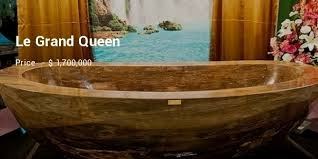bathub: (2, 51, 318, 155)
